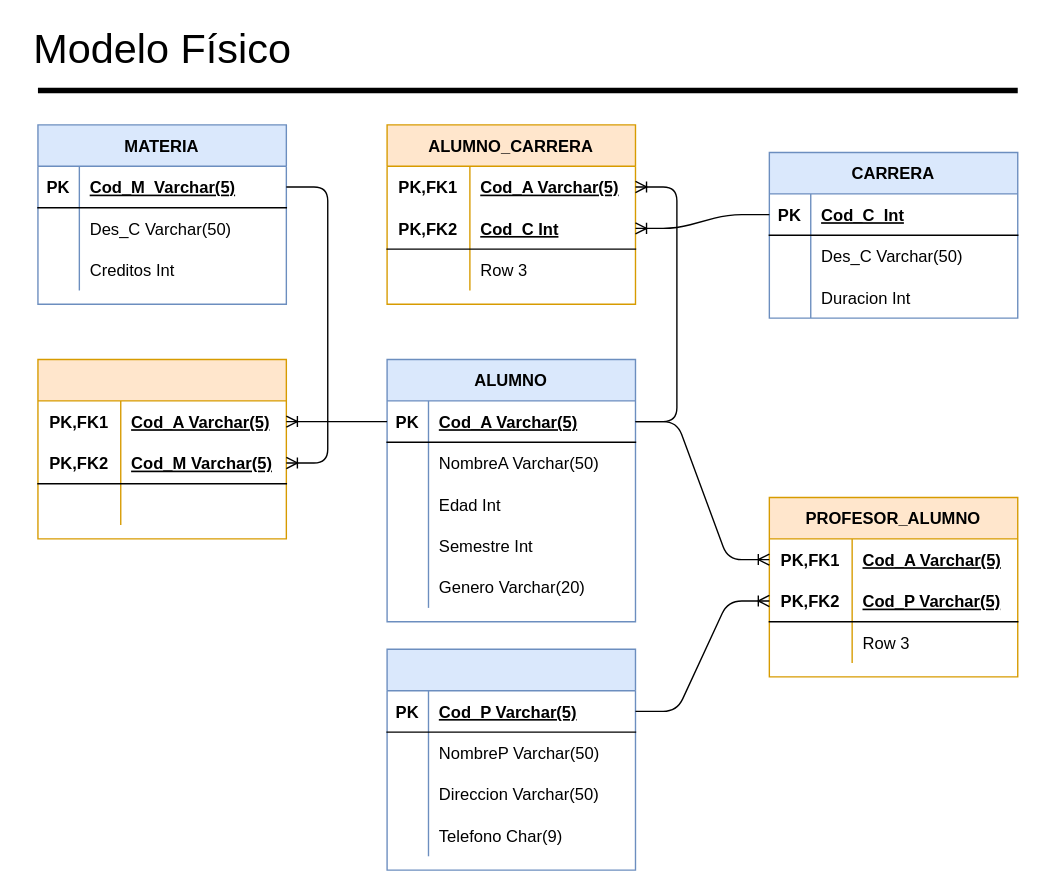
The diagram is 1043 pixels wide and 894 high, and some of its shapes have lost their labels. Here are the shapes that lost their labels. From the top down, the box of each, then its label:
(37, 358, 286, 539): ALUMNO_MATERIA
(386, 648, 635, 870): PROFESOR
